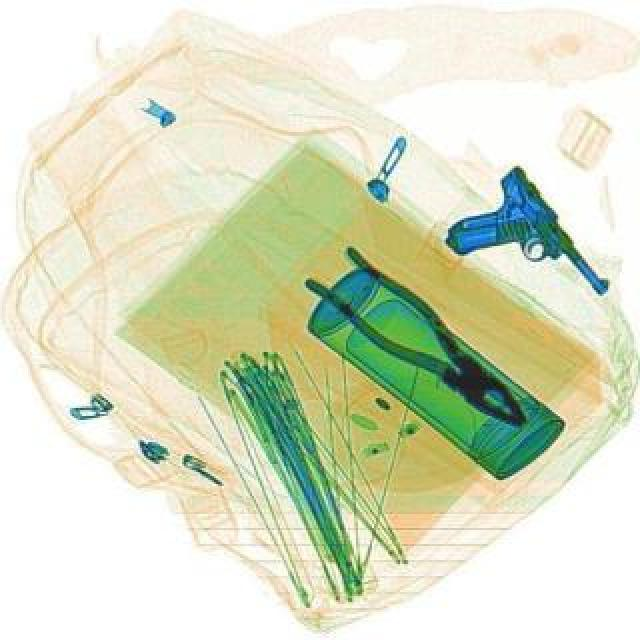gun: (426, 162, 614, 346)
wrench: (298, 236, 550, 448)
